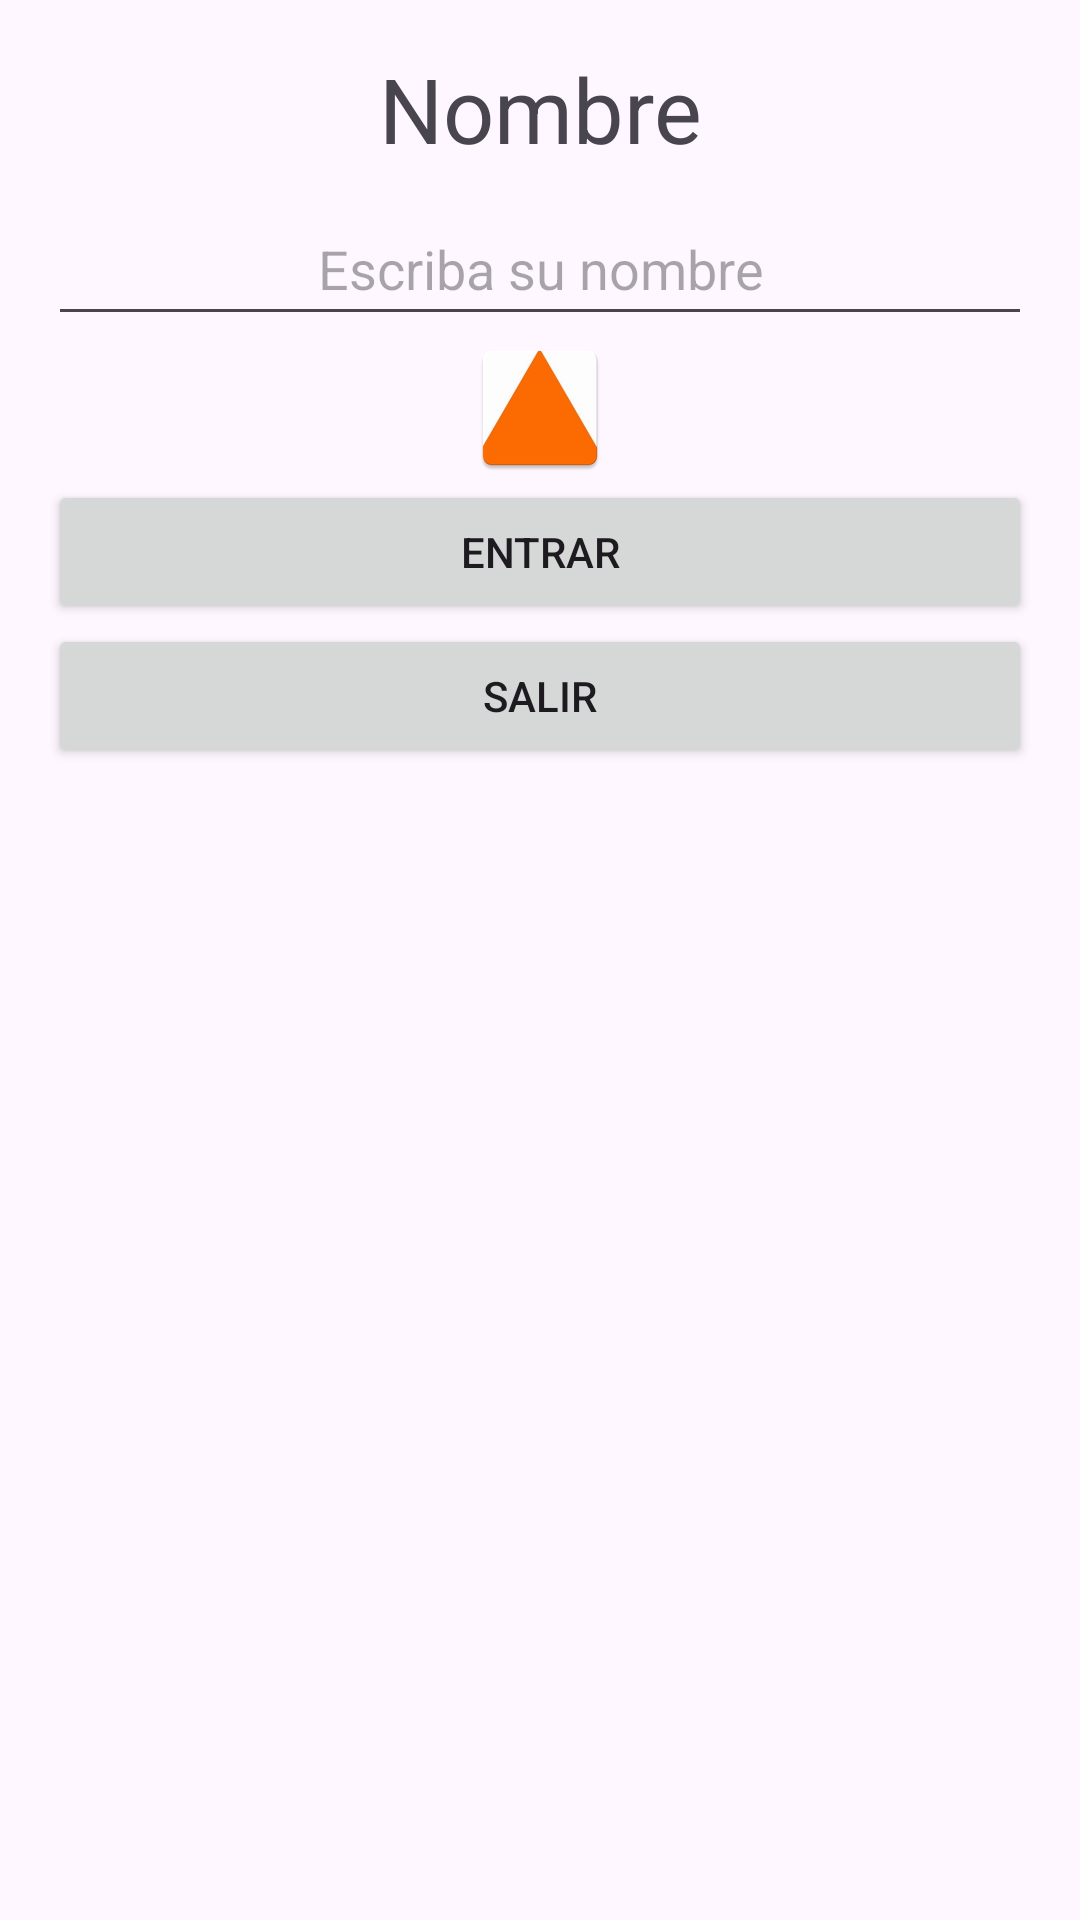

Screen size 1080 x 1920. Icon name, then its center in pixels as (x=x, y=y):
triangulo: (x=540, y=409)
